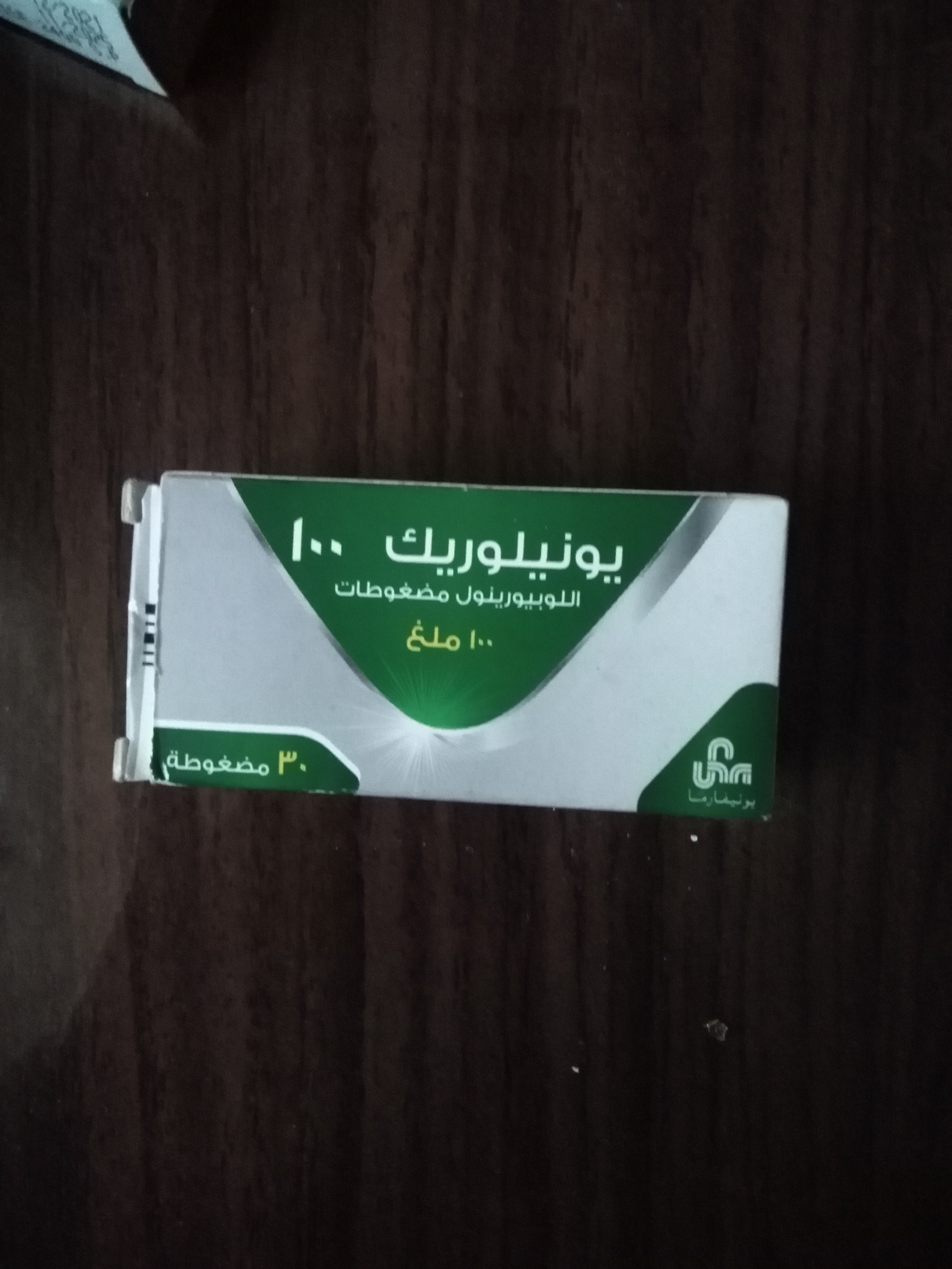Medicine: (117, 447, 797, 860)
